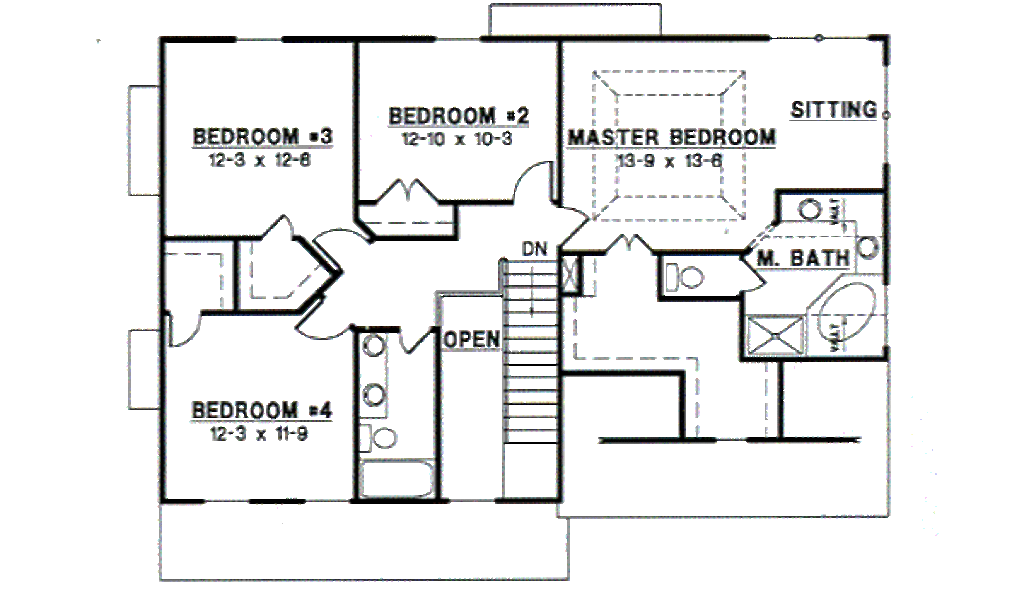door: (308, 224, 367, 272), (289, 300, 346, 346), (502, 158, 553, 204), (368, 173, 434, 207), (159, 308, 201, 350), (555, 202, 591, 251), (600, 231, 650, 258), (248, 213, 293, 242), (396, 327, 433, 353)
large_sink: (661, 256, 706, 298), (355, 423, 402, 455)
small_sink: (781, 194, 888, 225), (355, 332, 391, 423), (849, 197, 886, 276)
stairs: (502, 236, 565, 500)
tub: (807, 272, 886, 360), (357, 455, 443, 508)
